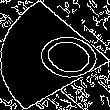O_SE: (9, 21, 101, 89)
